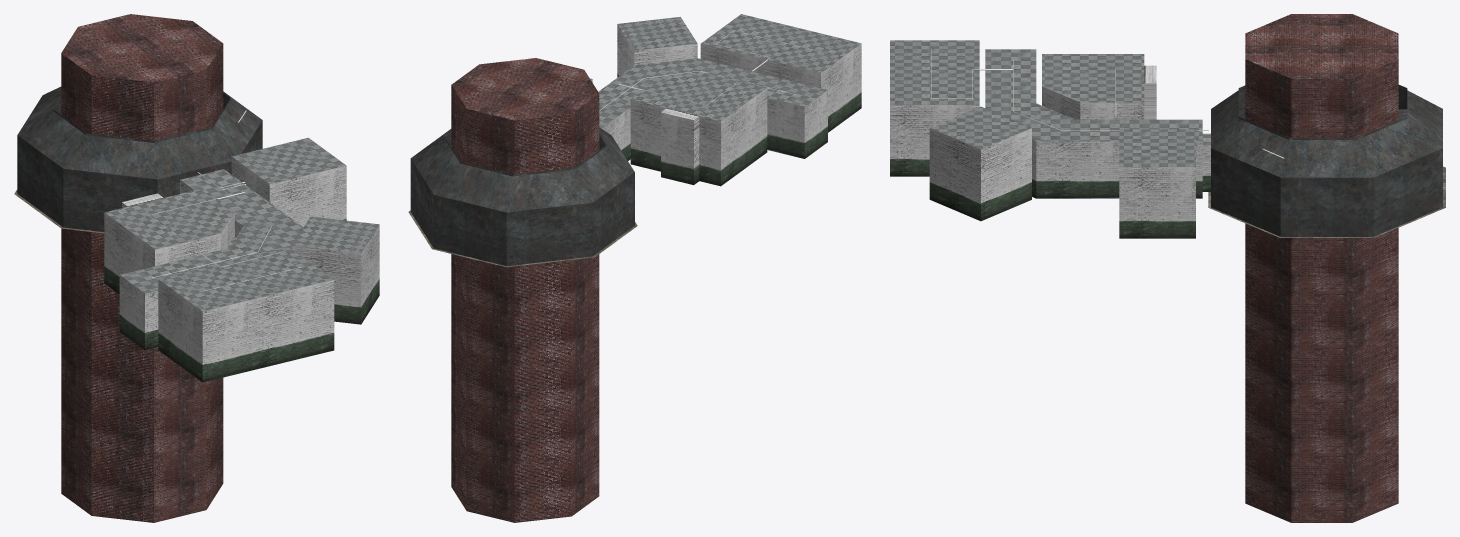
File: map.FBX
3 renders of one model, left to right at view 1: azimuth 30°, elevation 25°; view 2: azimuth 150°, elevation 25°; view 3: azimuth 270°, elevation 25°, orthographic. The views are drawn at different scales.
Visible parts, largest first — view 1: Line001; view 2: Line001; view 3: Line001.
Boxes of the visible parts, x1,y1,x2,y2 form: Line001: [14, 14, 379, 522]; Line001: [408, 14, 861, 522]; Line001: [890, 14, 1445, 522].
Size of the model in its own units: 231 by 362 by 411.
Materials: 8 (8 with a texture image).
